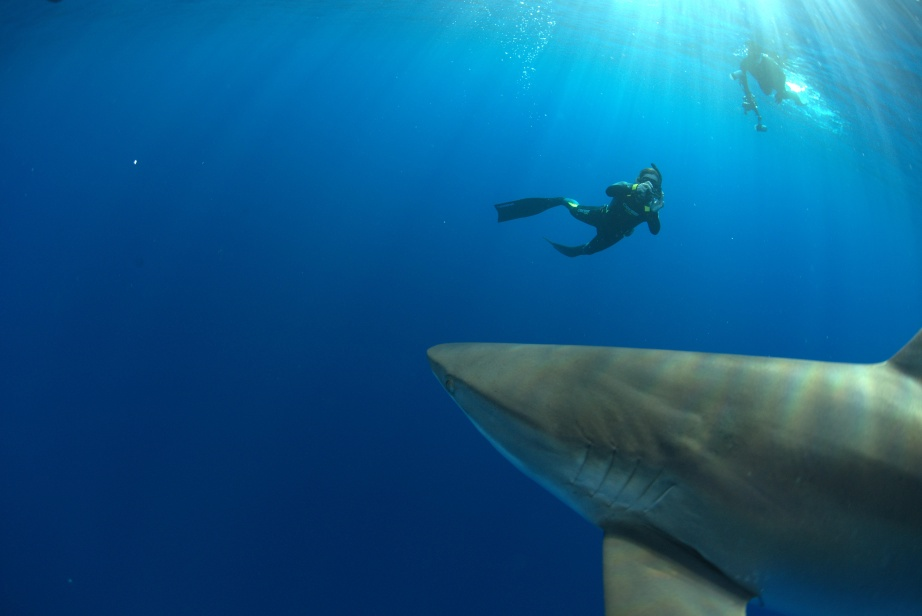Sedoso: (347, 299, 922, 616)
